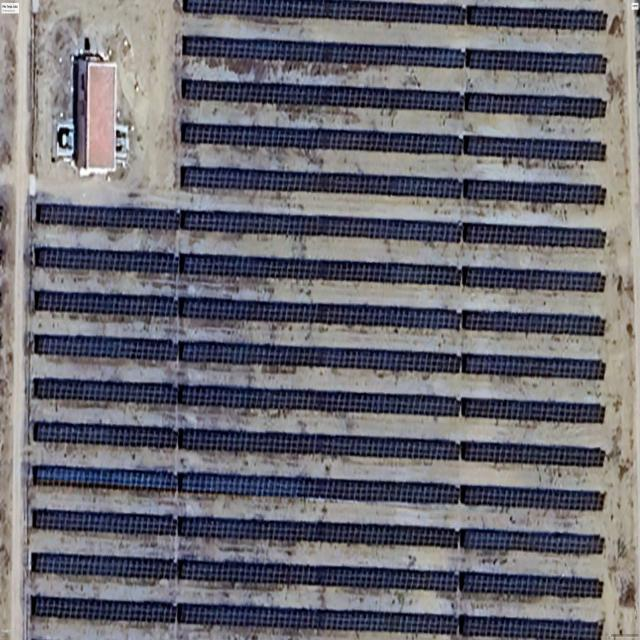Solar Panels: (34, 334, 462, 374), (31, 595, 459, 635), (34, 290, 461, 330), (30, 553, 460, 592), (32, 465, 460, 504), (33, 509, 459, 548), (182, 35, 606, 74), (38, 247, 460, 286), (32, 378, 459, 416), (35, 422, 460, 460), (181, 166, 462, 199), (181, 210, 462, 243), (181, 79, 464, 111), (181, 123, 462, 155), (184, 0, 464, 25), (459, 571, 603, 598), (36, 203, 180, 230), (461, 441, 605, 467), (460, 529, 604, 555), (462, 266, 605, 292), (462, 310, 605, 336), (462, 354, 605, 380), (460, 485, 604, 510), (463, 223, 606, 248), (462, 398, 605, 423), (459, 615, 602, 640), (464, 136, 606, 161), (464, 179, 606, 204), (465, 93, 606, 118), (467, 6, 607, 31)
